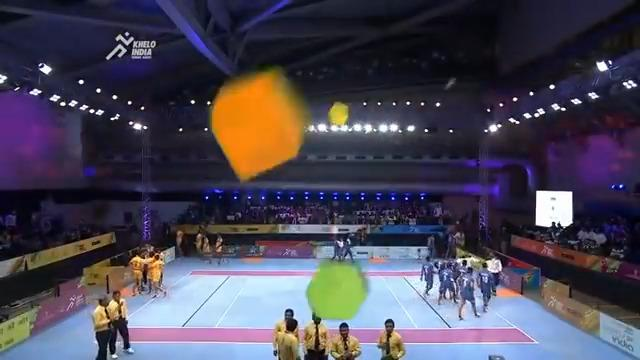Player: (105, 289, 134, 356), (91, 293, 116, 359), (302, 313, 329, 359), (375, 318, 405, 359), (329, 321, 361, 359), (273, 317, 300, 359), (476, 261, 495, 311), (128, 251, 145, 296), (149, 253, 165, 298)
